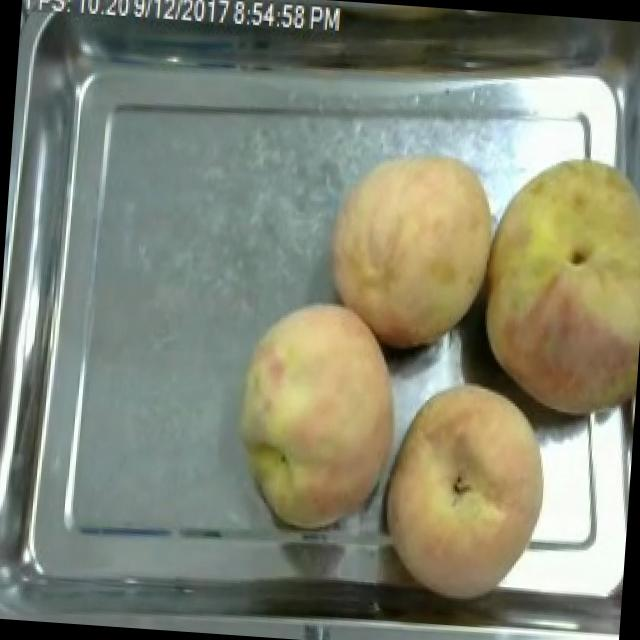Fruit: (457, 134, 640, 432), (364, 369, 564, 617), (222, 290, 418, 540), (314, 136, 508, 362)
